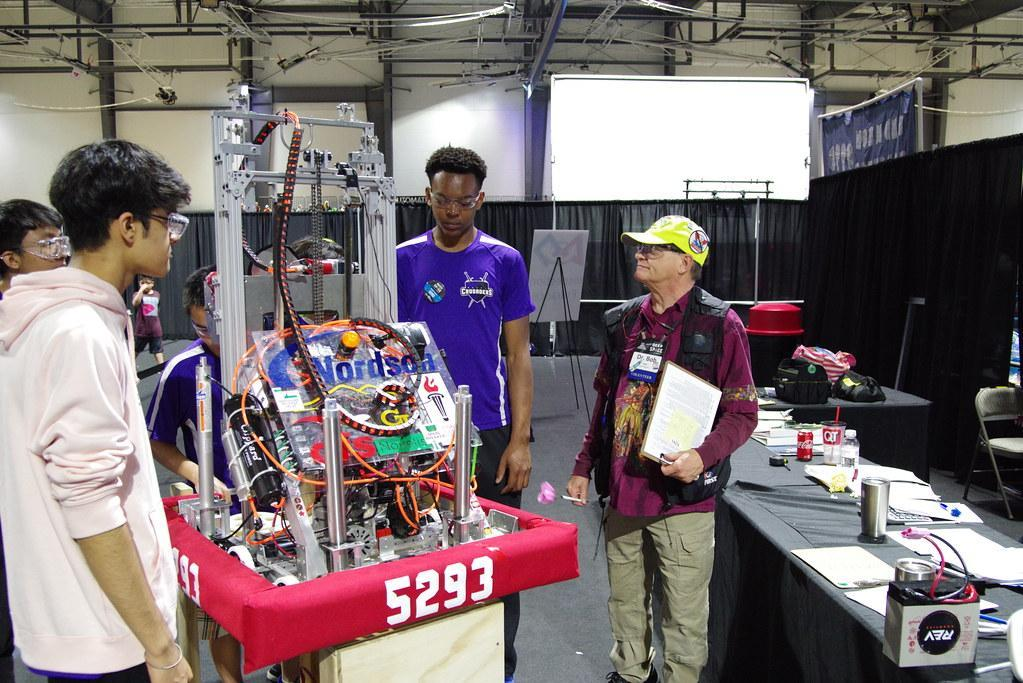robot: (138, 77, 586, 676)
